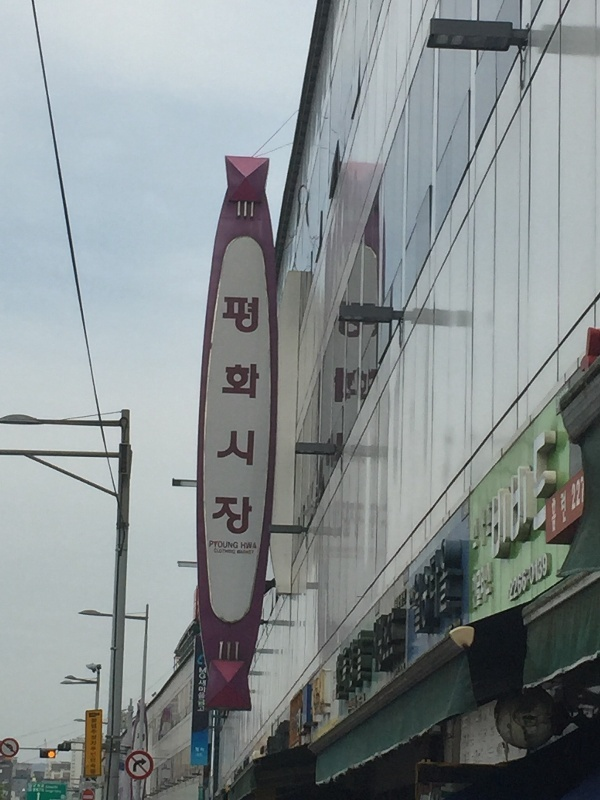text: (225, 298, 240, 536), (241, 298, 256, 536), (497, 410, 512, 573), (513, 410, 528, 573), (529, 410, 544, 573), (545, 410, 557, 573), (417, 517, 432, 645), (433, 517, 448, 645), (449, 517, 464, 645), (337, 595, 352, 708), (353, 595, 368, 708), (369, 595, 384, 708), (385, 595, 400, 708), (257, 298, 264, 536), (321, 416, 336, 499), (408, 517, 416, 645), (513, 552, 528, 606), (529, 552, 544, 606), (321, 659, 331, 727), (401, 595, 407, 708), (492, 410, 496, 573), (481, 560, 493, 612), (337, 416, 344, 499), (481, 502, 492, 553), (312, 659, 320, 727), (337, 368, 352, 404), (353, 368, 368, 404), (472, 560, 480, 612), (199, 667, 208, 713), (473, 502, 480, 553), (552, 490, 560, 532), (353, 690, 366, 714), (577, 475, 585, 512), (369, 368, 377, 404), (296, 705, 304, 737), (561, 490, 567, 532), (317, 416, 320, 499), (570, 475, 576, 512), (92, 719, 96, 773), (509, 552, 512, 606), (545, 552, 548, 606), (465, 517, 466, 645), (210, 540, 224, 548), (241, 542, 256, 549), (225, 540, 238, 548), (395, 591, 400, 611), (401, 591, 406, 611), (348, 690, 352, 714), (33, 784, 44, 790), (195, 747, 208, 752), (214, 548, 224, 553), (225, 548, 235, 553), (49, 785, 58, 790), (33, 790, 44, 794), (49, 791, 62, 794), (335, 368, 336, 404), (241, 551, 254, 553), (28, 784, 32, 790), (28, 790, 32, 794), (46, 785, 48, 790), (45, 791, 48, 794), (237, 551, 240, 553)
